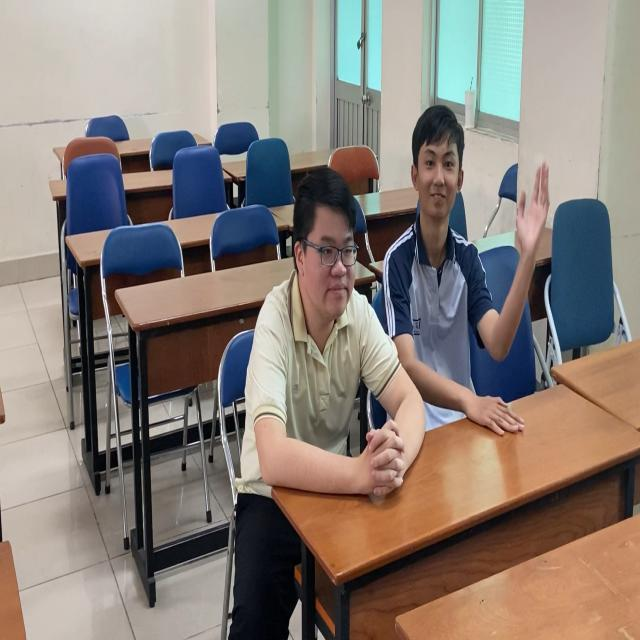raise_hand: (383, 88, 554, 441)
